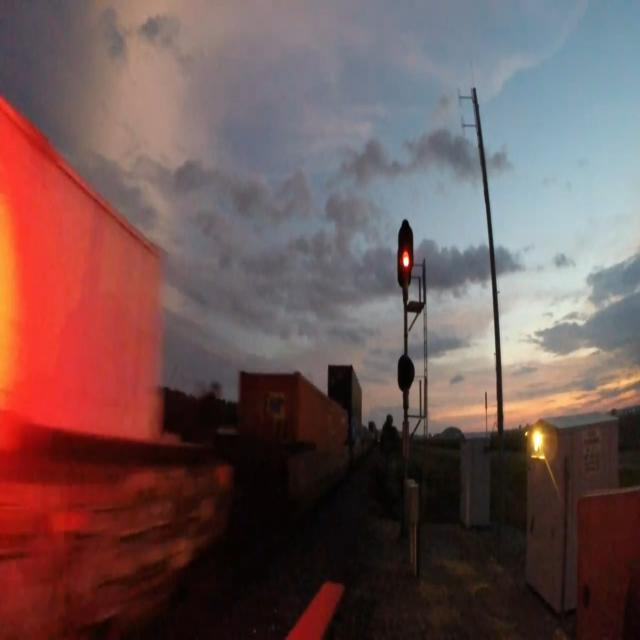container: (0, 63, 176, 467), (235, 356, 352, 459)
